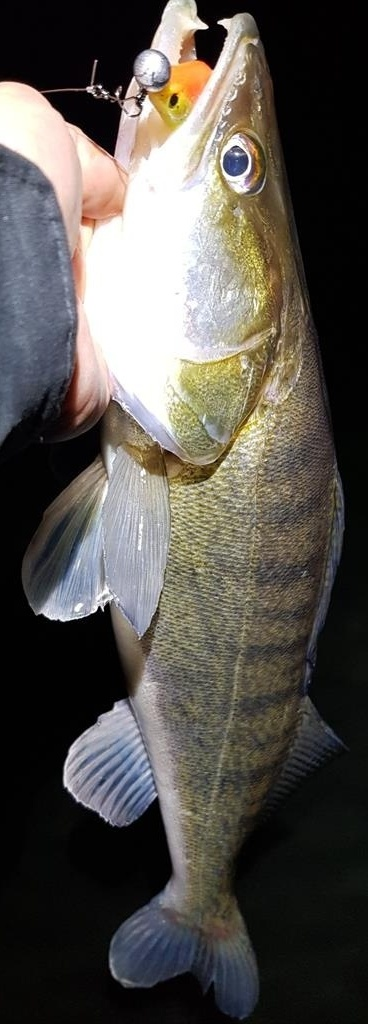Sander lucioperca: (20, 1, 348, 1024)
